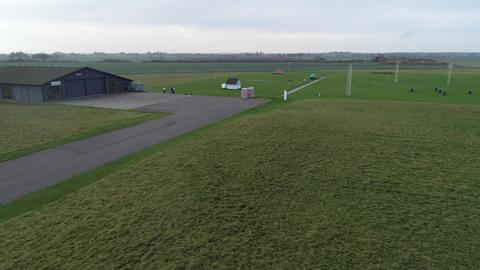RockwoolPallet: (246, 86, 254, 96)
